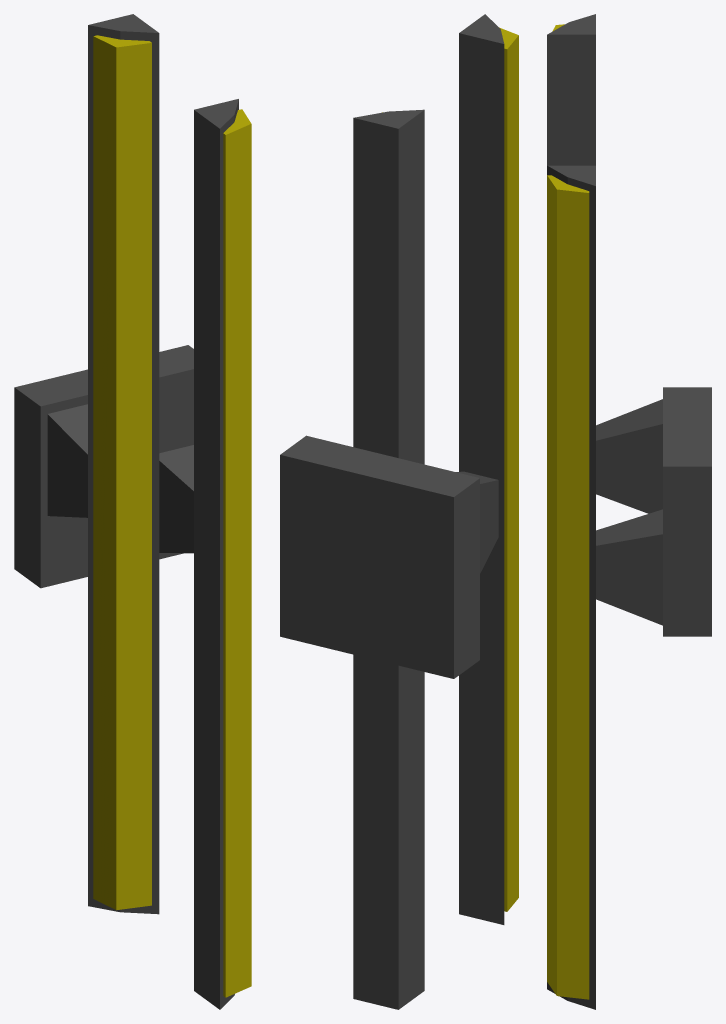
The model's file is WallLampPoles.glb.
3 views of the same model, side by side, from view 1: azimuth 30°, elevation 25°; view 2: azimuth 150°, elevation 25°; view 3: azimuth 270°, elevation 25° (orthographic). The views are drawn at different scales.
Visible parts, largest first — view 1: pCube76, pCube73, pCube75, pCube70, pCube74, pCube71, pCube72; view 2: pCube73, pCube70, pCube74, pCube76, pCube71; view 3: pCube75, pCube70, pCube74, pCube73, pCube71, pCube72.
Boxes of the visible parts, x1=… form: pCube76: x1=93, y1=35, x2=151, y2=910; pCube73: x1=194, y1=99, x2=238, y2=1009; pCube75: x1=223, y1=109, x2=251, y2=997; pCube70: x1=14, y1=345, x2=193, y2=588; pCube74: x1=88, y1=14, x2=159, y2=914; pCube71: x1=47, y1=404, x2=87, y2=517; pCube72: x1=159, y1=445, x2=193, y2=553; pCube73: x1=353, y1=109, x2=424, y2=1009; pCube70: x1=280, y1=435, x2=479, y2=678; pCube74: x1=459, y1=14, x2=504, y2=924; pCube76: x1=499, y1=27, x2=518, y2=911; pCube71: x1=456, y1=471, x2=498, y2=573; pCube75: x1=547, y1=175, x2=589, y2=999; pCube70: x1=663, y1=387, x2=711, y2=636; pCube74: x1=547, y1=14, x2=595, y2=165; pCube73: x1=547, y1=165, x2=595, y2=1009; pCube71: x1=596, y1=399, x2=662, y2=513; pCube72: x1=596, y1=509, x2=662, y2=625.
Size of the model in its own units: 3.84 by 20.94 by 3.37.
